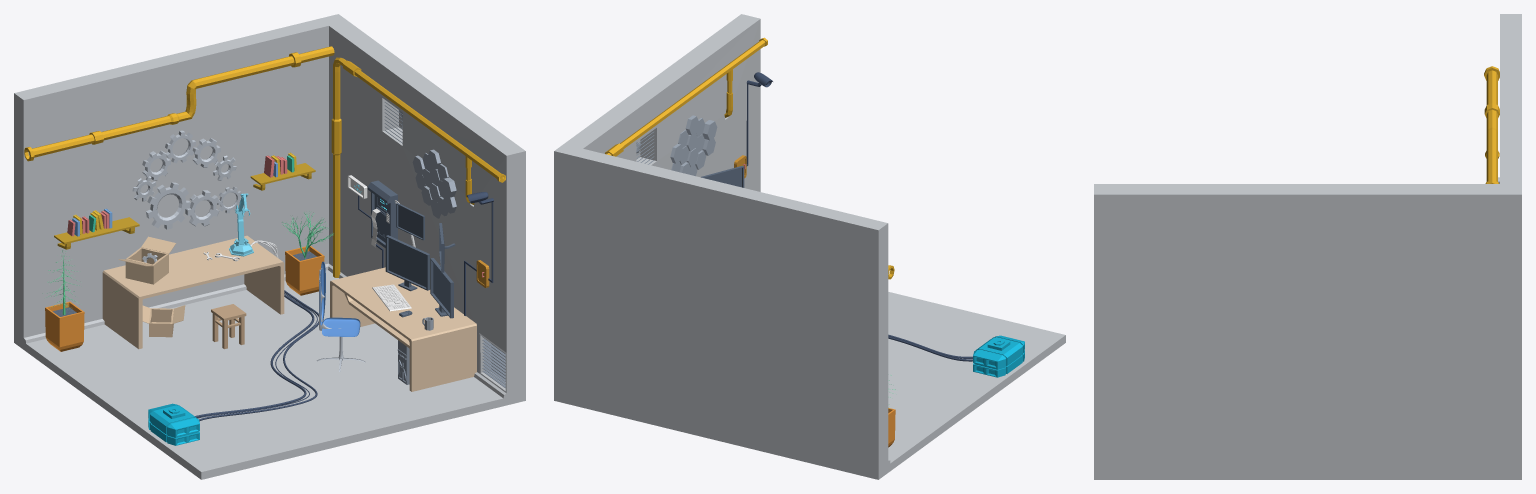
File: toimisto.glb
3 renders of one model, left to right at view 1: azimuth 30°, elevation 25°; view 2: azimuth 150°, elevation 25°; view 3: azimuth 270°, elevation 25°, orthographic. The views are drawn at different scales.
Visible parts, largest first — view 1: Cube, 003 (×3), object 35, 011, object 82, 002 (×2), 016 (×2), 004 (×2), 019, 010 (×2), 034, 020 (+9 smaller); view 2: Cube, 019, 034, object 82, 007; view 3: Cube, 011.
Boxes of the visible parts, <box> form: Cube: <box>14,14,525,479</box>; 003 (×3): <box>102,235,360,421</box>; object 35: <box>330,267,476,391</box>; 011: <box>24,46,334,161</box>; object 82: <box>331,57,505,277</box>; 002 (×2): <box>385,235,505,387</box>; 016 (×2): <box>45,193,253,351</box>; 004 (×2): <box>195,246,324,417</box>; 019: <box>412,149,456,218</box>; 010 (×2): <box>125,190,219,284</box>; 034: <box>148,403,199,445</box>; 020: <box>367,180,397,247</box>; Cube: <box>554,14,1065,479</box>; 019: <box>670,115,717,176</box>; 034: <box>973,335,1024,377</box>; object 82: <box>605,37,767,156</box>; 007: <box>701,165,744,187</box>; Cube: <box>1094,14,1521,479</box>; 011: <box>1484,66,1499,183</box>.
Size of the model in its own units: 601 by 442 by 601.
